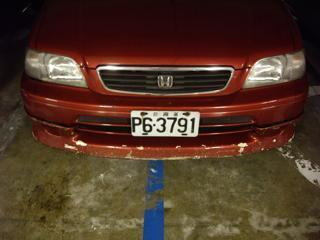plate: (129, 107, 202, 137)
